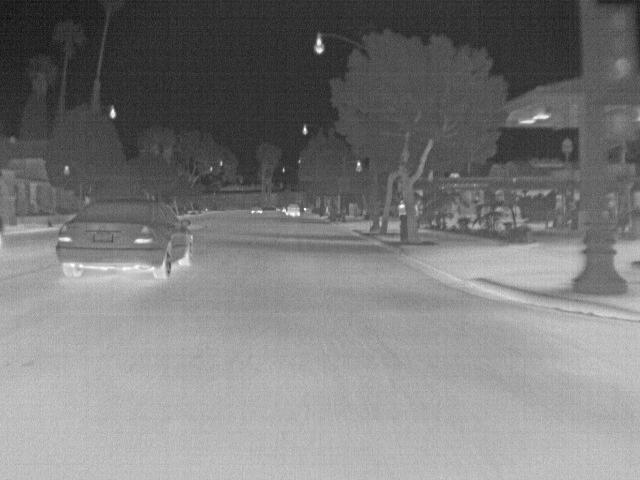car: (54, 197, 194, 279), (284, 202, 301, 218), (249, 200, 265, 214)
person: (396, 197, 407, 216)
